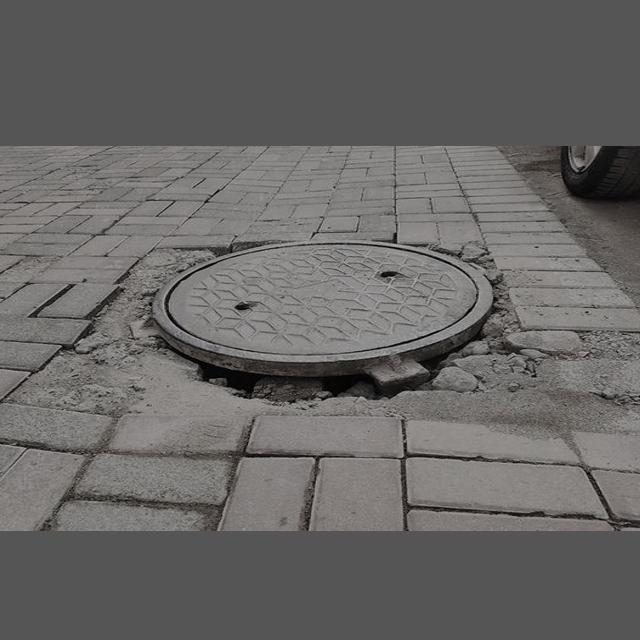circle: (18, 240, 582, 415)
